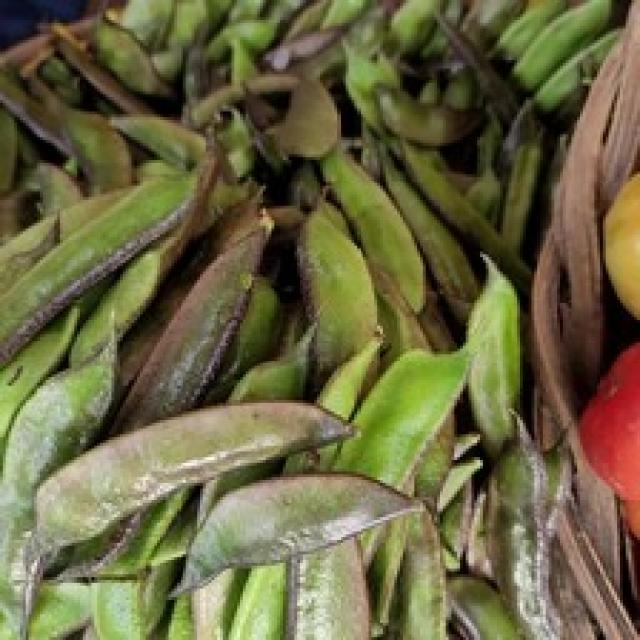organik: (0, 388, 431, 597)
